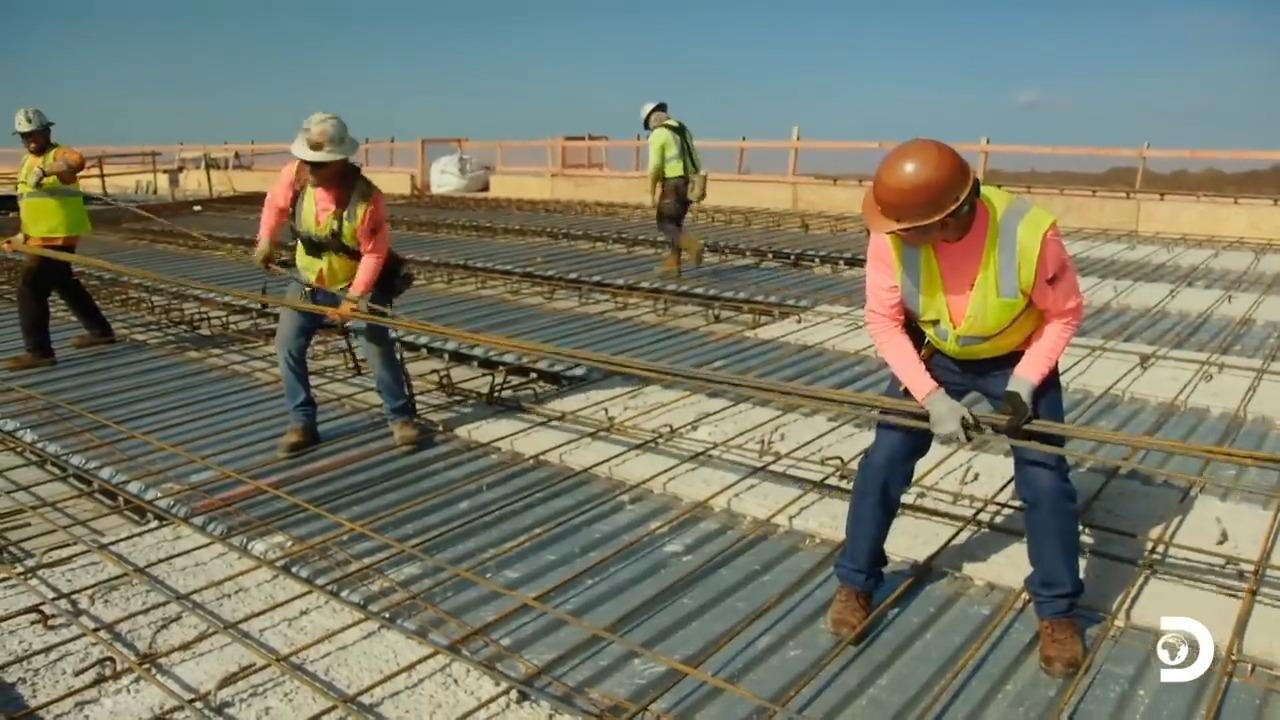Gloves: (926, 387, 971, 454), (990, 374, 1028, 424), (328, 294, 369, 336), (252, 242, 276, 273), (24, 165, 48, 188)
Helmet: (861, 137, 975, 233), (289, 111, 359, 163), (11, 107, 54, 134), (639, 101, 667, 130)
Person: (832, 134, 1095, 675), (252, 111, 420, 458), (0, 106, 116, 370), (639, 100, 706, 277), (1034, 618, 1085, 677)
Safety Boot: (822, 586, 874, 637), (276, 414, 318, 455), (0, 347, 51, 372), (385, 410, 420, 445), (70, 322, 116, 344), (676, 236, 703, 269), (655, 254, 678, 273)
Safety Vest: (894, 228, 1042, 352), (286, 179, 366, 293), (24, 165, 86, 241), (651, 135, 691, 175)
